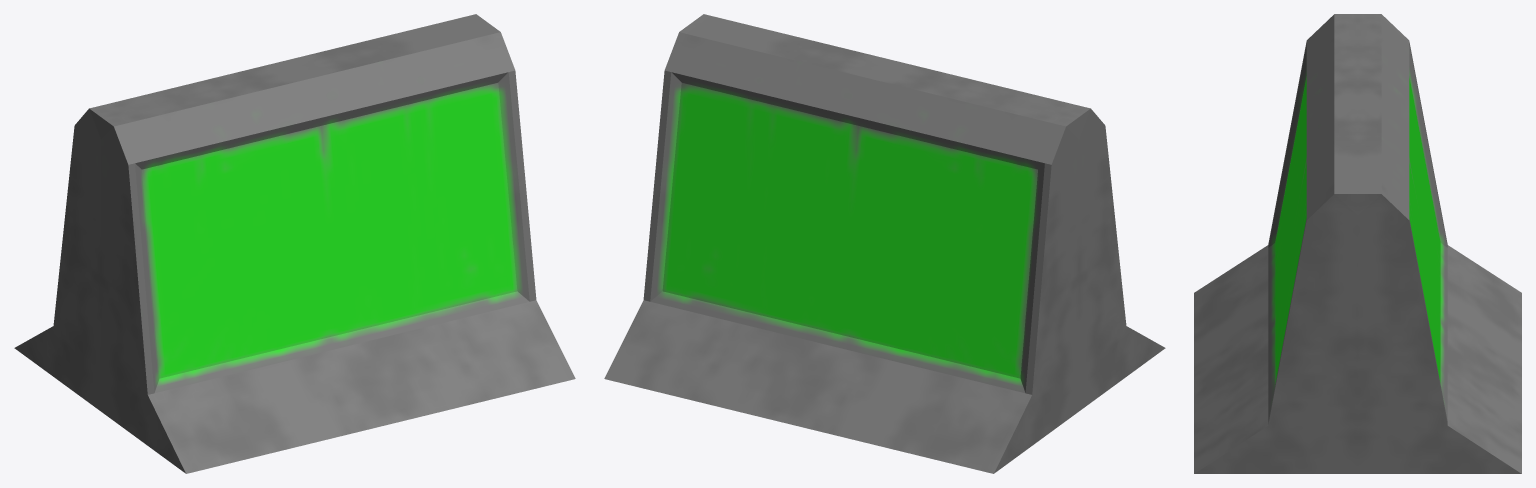
The model's file is IFB399-GameBarrier.obj.
The picture shows the model from 3 angles, left to right: view 1: azimuth 30°, elevation 25°; view 2: azimuth 150°, elevation 25°; view 3: azimuth 270°, elevation 25°; orthographic projection. The views are drawn at different scales.
Parts seen in each view (by area): view 1: BarrierCentre_Cube.001; view 2: BarrierCentre_Cube.001; view 3: BarrierCentre_Cube.001.
Part boxes in pixels (x1,y1,x2,y2): BarrierCentre_Cube.001: [14, 14, 575, 473]; BarrierCentre_Cube.001: [604, 14, 1165, 473]; BarrierCentre_Cube.001: [1194, 14, 1521, 473].
Size of the model in its own units: 4.14 by 2.98 by 3.17.
